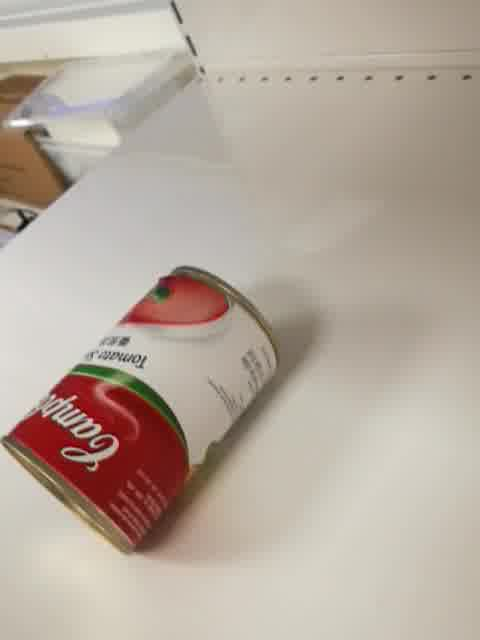tomatosoup: (1, 263, 283, 560)
